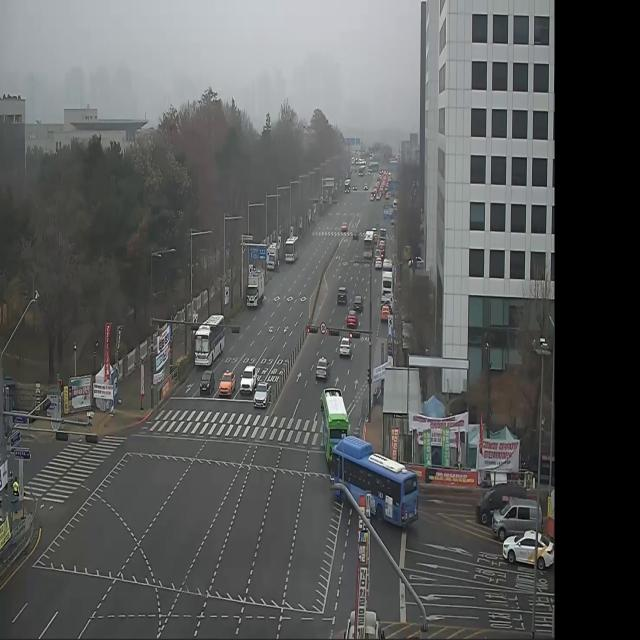car: (328, 434, 421, 534), (318, 381, 352, 468), (188, 311, 234, 369)
motorcycle: (239, 362, 258, 397), (252, 379, 273, 410), (218, 368, 237, 400), (313, 351, 332, 383), (198, 368, 216, 398), (338, 335, 352, 363)
